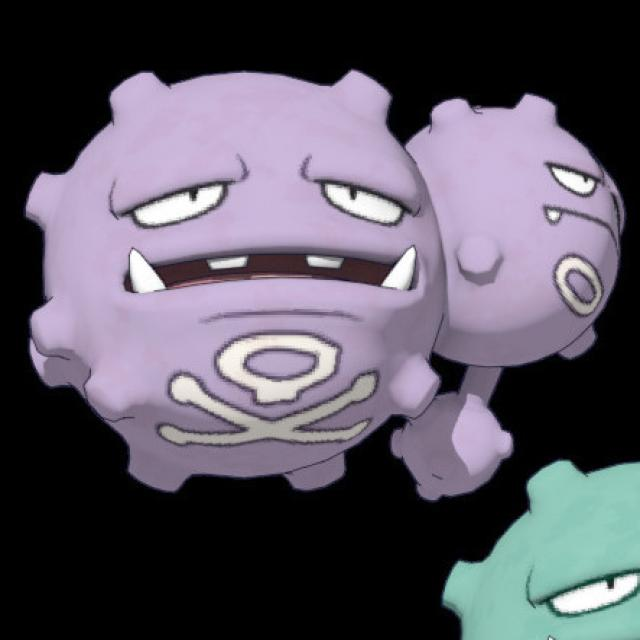Weezing: (35, 69, 614, 505)
